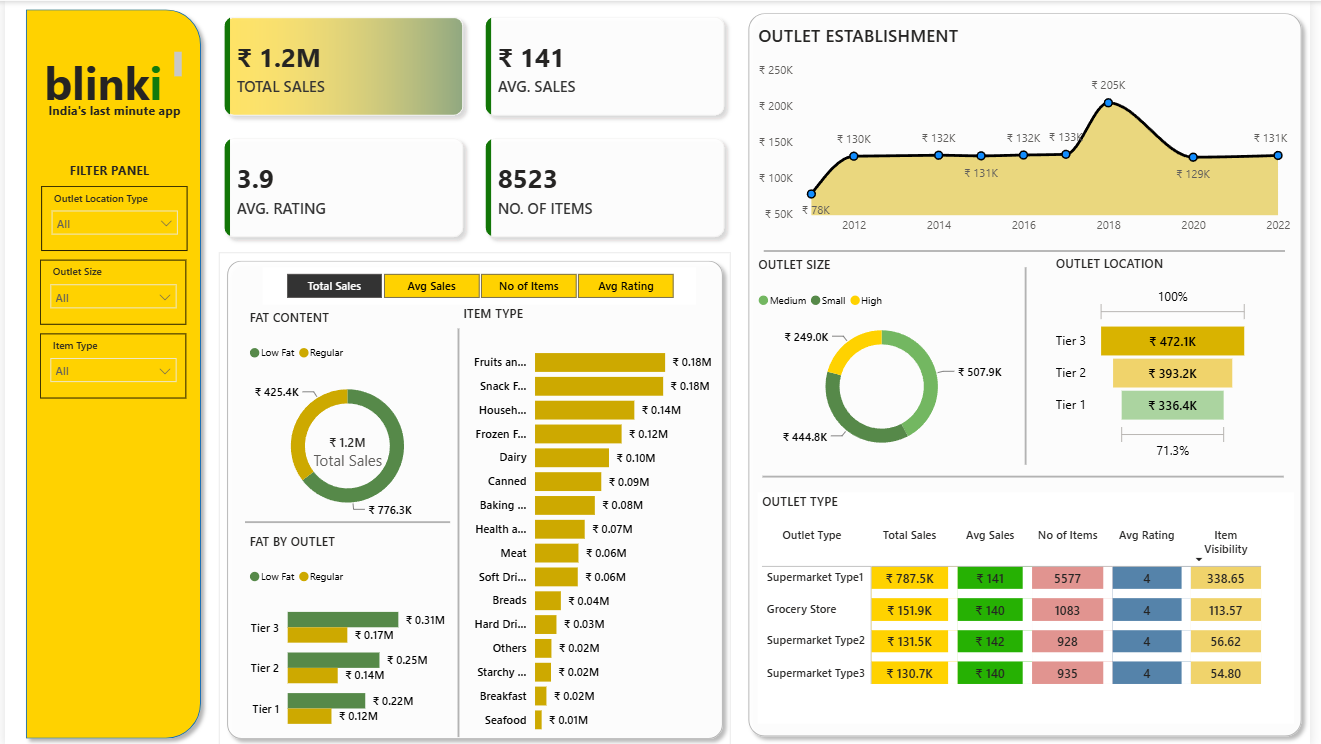

The dashboard page shown, as its layout file describes it:
{"tool":"powerbi","page":{"name":"Page 1","canvas":[1400,800],"ordinal":0},"visuals":[{"type":"shape","box":[12.9,0,205.7,800],"z":0},{"type":"textbox","box":[38,50,157,68],"z":1000},{"type":"textbox","box":[42.1,102.9,155.7,30],"z":2000},{"type":"cardVisual","fields":{"Data":["BlinkIT Grocery Data.Total Sales","BlinkIT Grocery Data.Avg Sales","BlinkIT Grocery Data.Avg Rating","BlinkIT Grocery Data.No of Items"]},"box":[218.6,0,570,270],"z":3000},{"type":"shape","box":[229.2,269.4,549.6,530.8],"z":4000},{"type":"donutChart","title":"FAT CONTENT","fields":{"Y":["BlinkIT Grocery Data.Total Sales"],"Category":["BlinkIT Grocery Data.Item Fat Content"]},"box":[257.1,330,220,240],"z":5000},{"type":"slicer","fields":{"Values":["Metrics.Metrics"]},"box":[275.7,285.7,465,40],"z":6000},{"type":"cardVisual","fields":{"Data":["BlinkIT Grocery Data.Total Sales"]},"box":[298.3,447.5,137.5,71.7],"z":7000},{"type":"clusteredBarChart","title":"FAT BY OUTLET","fields":{"Y":["BlinkIT Grocery Data.Total Sales"],"Category":["BlinkIT Grocery Data.Outlet Location Type"],"Series":["BlinkIT Grocery Data.Item Fat Content"]},"box":[256.9,570,220,230],"z":8000},{"type":"shape","box":[257.1,542.9,220,31.9],"z":9000},{"type":"shape","box":[477.3,350.9,18.2,438.2],"z":10000},{"type":"barChart","title":"ITEM TYPE","fields":{"Y":["BlinkIT Grocery Data.Total Sales"],"Category":["BlinkIT Grocery Data.Item Type"]},"box":[486.4,325.7,277.1,470.7],"z":11000},{"type":"shape","box":[788.8,3.8,611.2,793.8],"z":11001},{"type":"lineChart","title":"OUTLET ESTABLISHMENT","fields":{"Y":["BlinkIT Grocery Data.Total Sales"],"Category":["BlinkIT Grocery Data.Outlet Establishment Year"]},"box":[803,24.1,580.4,234.6],"z":11002},{"type":"shape","box":[813.7,253.4,559,29.5],"z":11003},{"type":"donutChart","title":"OUTLET SIZE","fields":{"Category":["BlinkIT Grocery Data.Outlet Size"],"Y":["BlinkIT Grocery Data.Total Sales"]},"box":[803,273.5,274.8,225.2],"z":11004},{"type":"shape","box":[1085.8,285.5,17.4,211.8],"z":11005},{"type":"funnel","title":"OUTLET LOCATION","fields":{"Category":["BlinkIT Grocery Data.Outlet Location Type"],"Y":["BlinkIT Grocery Data.Total Sales"]},"box":[1122,272.1,217.2,225.2],"z":11006},{"type":"shape","box":[812.3,494.6,559,30.8],"z":11007},{"type":"pivotTable","title":"OUTLET TYPE","fields":{"Values":["BlinkIT Grocery Data.Total Sales","BlinkIT Grocery Data.Avg Sales","BlinkIT Grocery Data.No of Items","BlinkIT Grocery Data.Avg Rating","Sum(BlinkIT Grocery Data.Item Visibility)"],"Rows":["BlinkIT Grocery Data.Outlet Type"]},"box":[807,526.8,575.1,248],"z":11008},{"type":"slicer","fields":{"Values":["BlinkIT Grocery Data.Outlet Location Type"]},"box":[38.9,198.4,156.8,69.7],"z":11009},{"type":"slicer","fields":{"Values":["BlinkIT Grocery Data.Outlet Size"]},"box":[37.5,277.5,156.8,69.7],"z":11010},{"type":"slicer","fields":{"Values":["BlinkIT Grocery Data.Item Type"]},"box":[37.5,356.6,156.8,69.7],"z":11011},{"type":"textbox","box":[64,168,105,30],"z":11012}]}

Visuals, with their boxes in screenshot pixels (x1, y1, x2, y2), scaled from the page's 1400x800 canvas onto the 1321x744 screenshot:
shape: <region>12, 0, 206, 743</region>
textbox: <region>36, 46, 184, 110</region>
textbox: <region>40, 96, 187, 124</region>
cardVisual - BlinkIT Grocery Data.Total Sales x BlinkIT Grocery Data.Avg Sales: <region>206, 0, 744, 251</region>
shape: <region>216, 251, 735, 743</region>
"FAT CONTENT" donutChart: <region>243, 307, 450, 530</region>
slicer - Metrics.Metrics: <region>260, 266, 699, 303</region>
cardVisual - BlinkIT Grocery Data.Total Sales: <region>281, 416, 411, 483</region>
"FAT BY OUTLET" clusteredBarChart: <region>242, 530, 450, 743</region>
shape: <region>243, 505, 450, 535</region>
shape: <region>450, 326, 468, 734</region>
"ITEM TYPE" barChart: <region>459, 303, 720, 741</region>
shape: <region>744, 4, 1320, 742</region>
"OUTLET ESTABLISHMENT" lineChart: <region>758, 22, 1305, 241</region>
shape: <region>768, 236, 1295, 263</region>
"OUTLET SIZE" donutChart: <region>758, 254, 1017, 464</region>
shape: <region>1025, 266, 1041, 462</region>
"OUTLET LOCATION" funnel: <region>1059, 253, 1264, 462</region>
shape: <region>766, 460, 1294, 489</region>
"OUTLET TYPE" pivotTable: <region>761, 490, 1304, 721</region>
slicer - BlinkIT Grocery Data.Outlet Location Type: <region>37, 185, 185, 249</region>
slicer - BlinkIT Grocery Data.Outlet Size: <region>35, 258, 183, 323</region>
slicer - BlinkIT Grocery Data.Item Type: <region>35, 332, 183, 396</region>
textbox: <region>60, 156, 159, 184</region>
